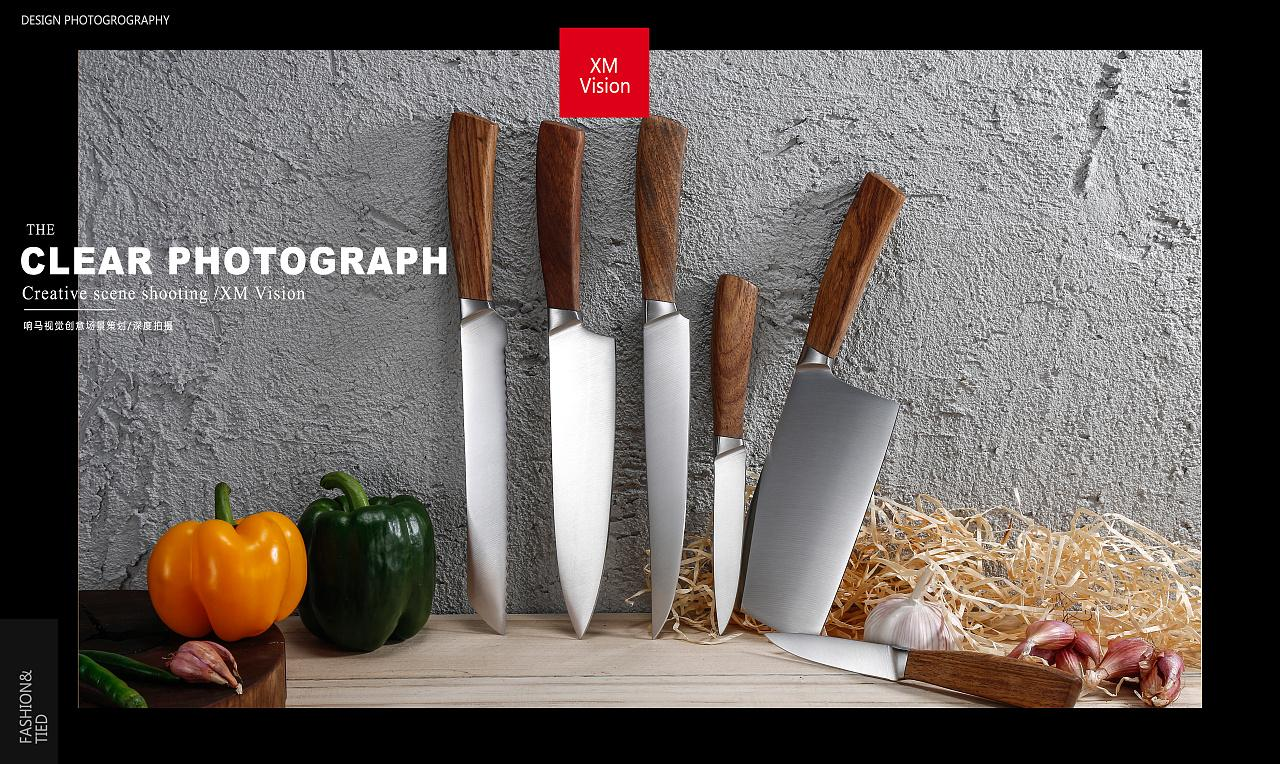knife: (416, 109, 1115, 704)
